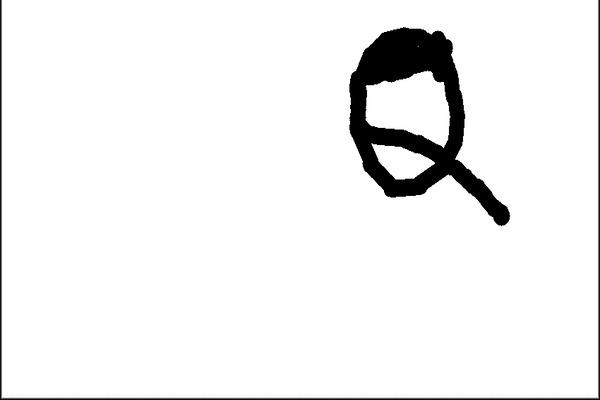Q: (341, 20, 517, 225)
